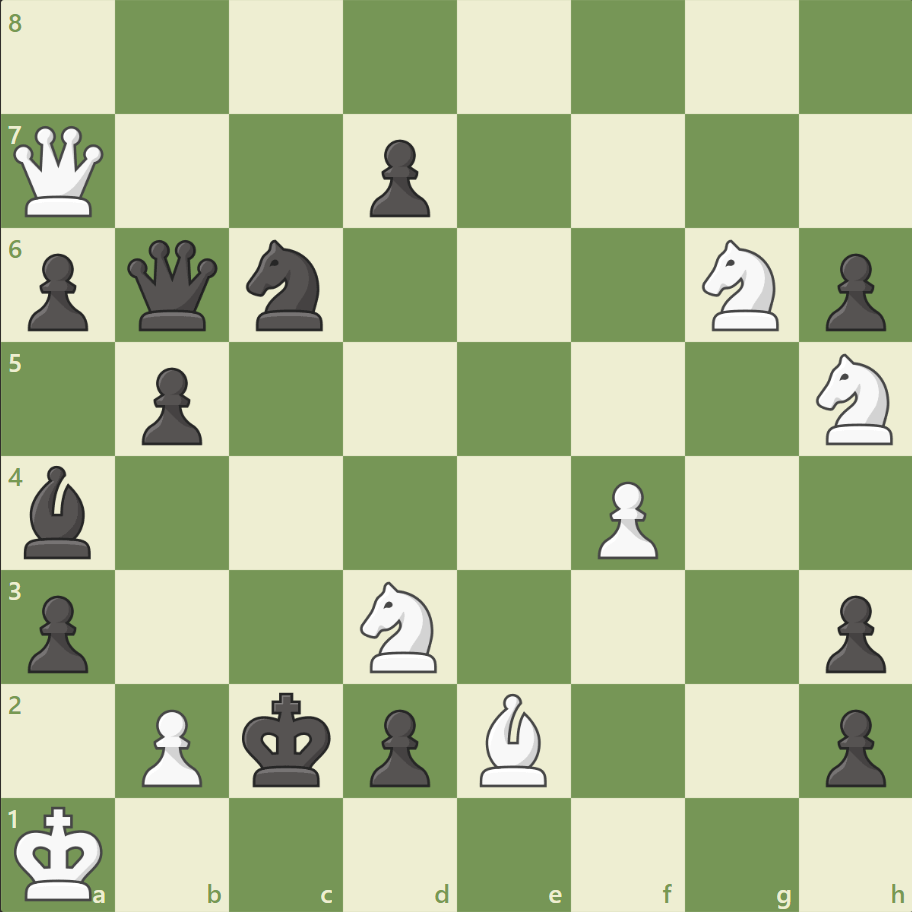B: (471, 687, 555, 790)
K: (11, 798, 111, 906)
N: (351, 575, 449, 677), (692, 234, 789, 337), (806, 348, 903, 450)
P: (133, 700, 208, 791), (588, 473, 662, 564)
Q: (10, 122, 109, 222)
b: (17, 460, 101, 563)
k: (238, 685, 338, 793)
n: (238, 234, 335, 337)
p: (20, 246, 95, 337), (133, 359, 208, 450), (20, 586, 95, 677), (361, 132, 435, 223), (815, 246, 889, 337), (815, 586, 889, 677), (361, 700, 435, 791), (815, 700, 889, 791)
q: (124, 236, 223, 335)
